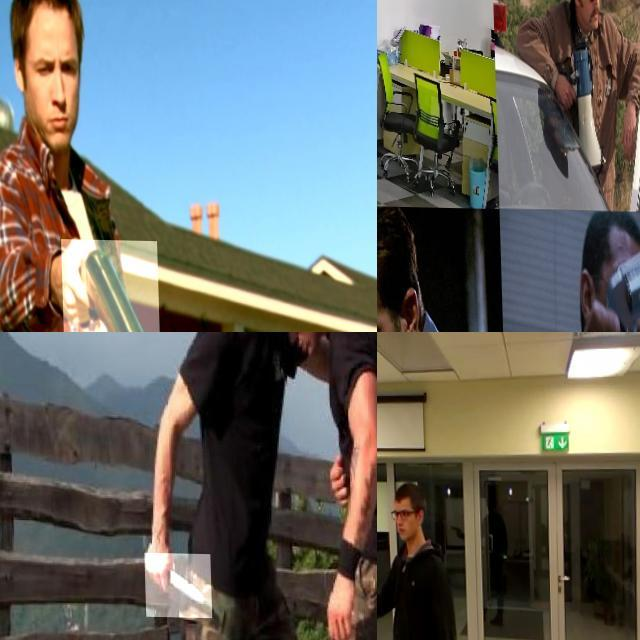-: (142, 552, 208, 617)
gun-knife-thesis - v11 Yolov5 augmented: (59, 237, 158, 332), (583, 228, 640, 332), (377, 566, 392, 604), (377, 0, 383, 56)
